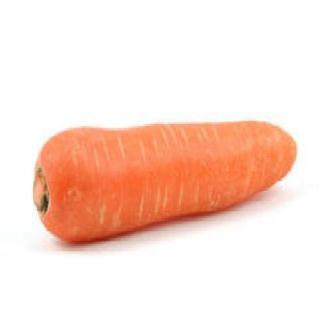carrot: (31, 118, 296, 248)
